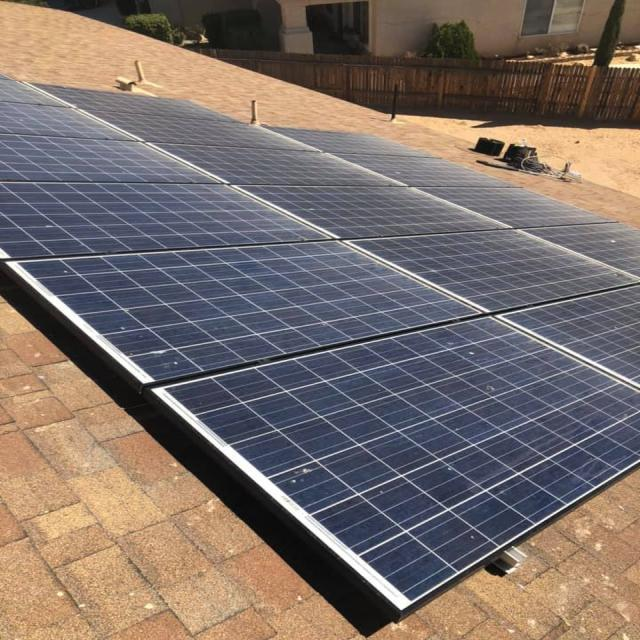Photovoltaic-Panel: (0, 77, 640, 606)
